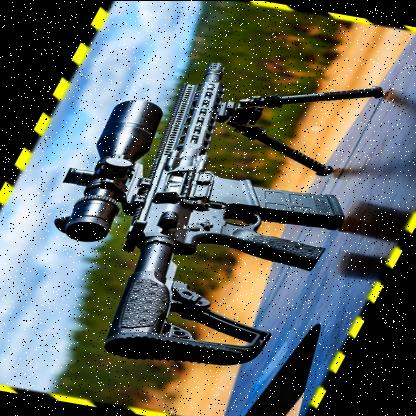rifle: (0, 33, 416, 381)
